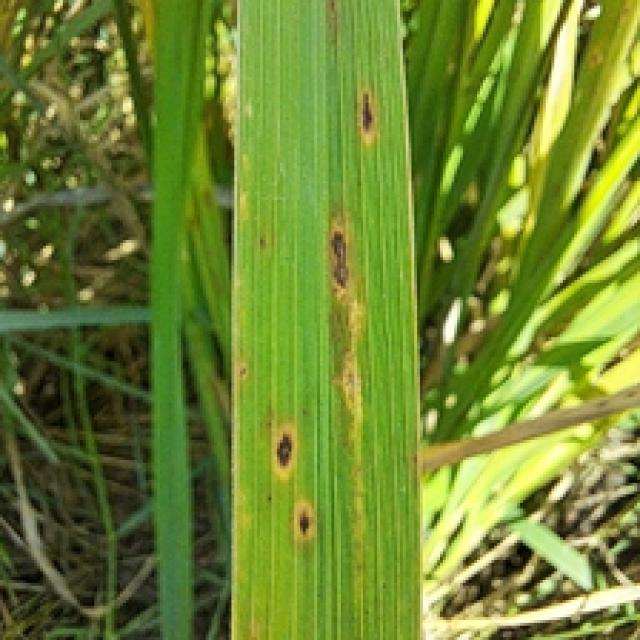Rice___Rice_Blast: (232, 0, 426, 637)
